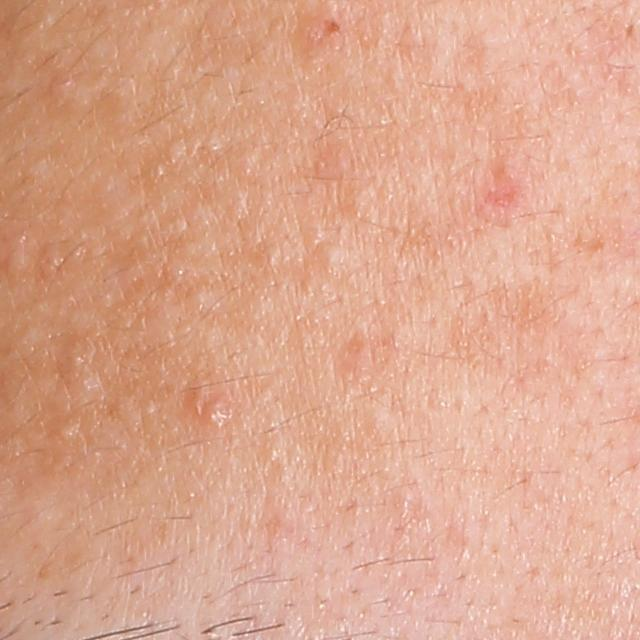comedo: (59, 336, 97, 377), (2, 249, 33, 287), (318, 245, 342, 271)
papule: (196, 391, 234, 433)
